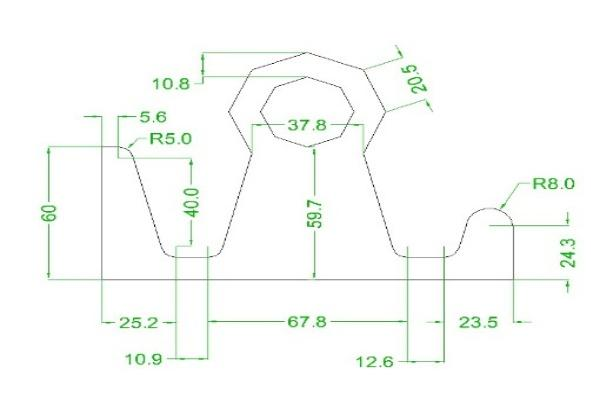dimensions: (528, 167, 579, 198), (144, 70, 196, 98), (142, 125, 198, 151), (112, 346, 168, 371), (456, 310, 506, 336), (350, 348, 398, 374), (397, 63, 432, 96), (285, 310, 331, 334), (556, 232, 582, 274), (176, 186, 207, 219), (31, 198, 67, 226), (301, 198, 330, 232), (113, 314, 164, 333), (285, 113, 330, 134), (134, 107, 169, 124)
